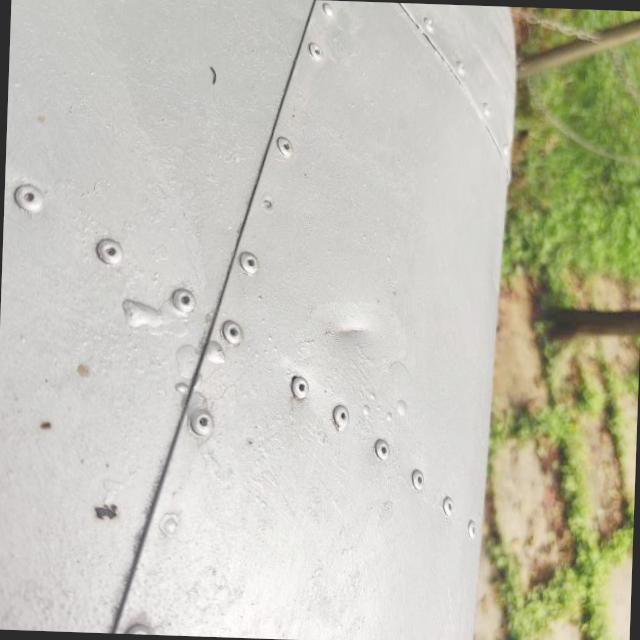dent: (277, 248, 369, 339)
